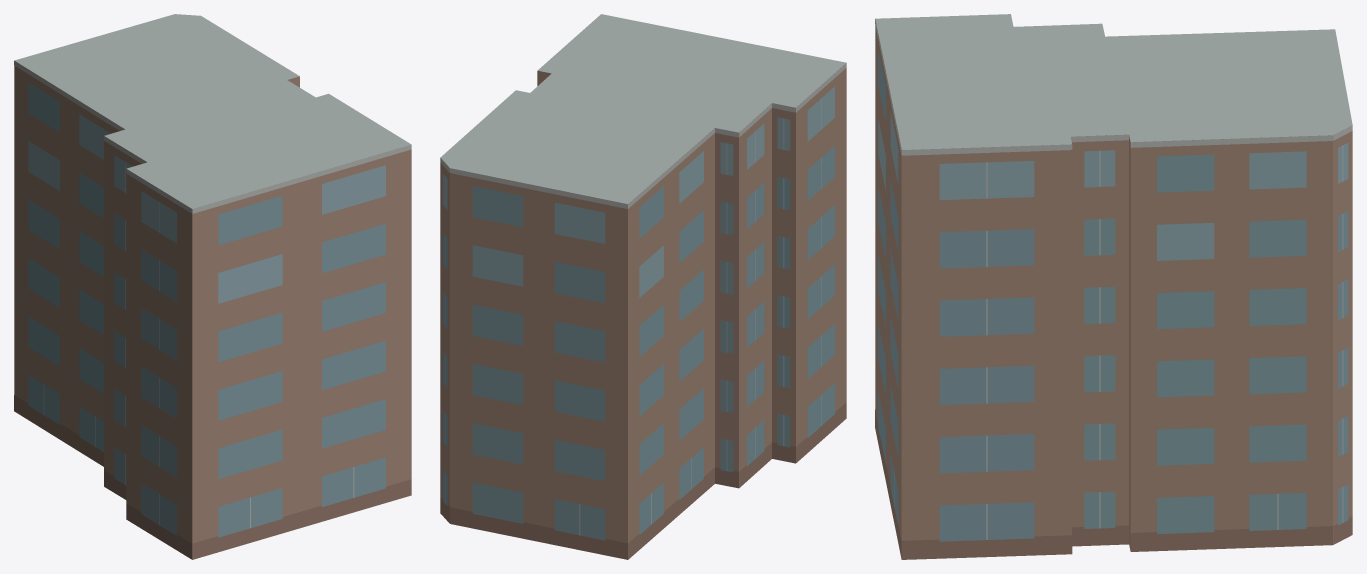
Rendered from survey-upis-33037249.glb.
3 views of the same model, side by side, from view 1: azimuth 30°, elevation 25°; view 2: azimuth 150°, elevation 25°; view 3: azimuth 270°, elevation 25° (orthographic). The views are drawn at different scales.
Visible parts, largest first — view 1: survey-upis-33037249.tmp; view 2: survey-upis-33037249.tmp; view 3: survey-upis-33037249.tmp.
Part boxes in pixels (x1,y1,x2,y2): survey-upis-33037249.tmp: [14, 14, 411, 559]; survey-upis-33037249.tmp: [440, 14, 846, 559]; survey-upis-33037249.tmp: [875, 14, 1352, 559].
Bounding box in the file's own units: 12.58 × 17.65 × 18.65.
